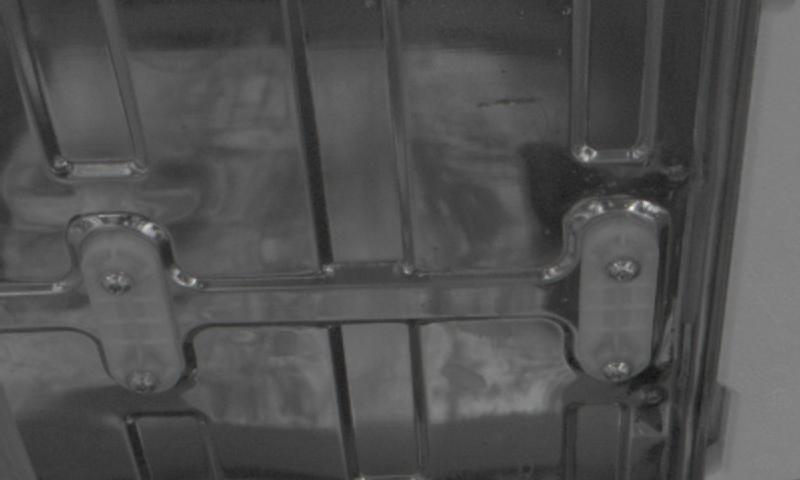vida-ok: (602, 244, 645, 289), (94, 260, 134, 305), (119, 361, 162, 401), (596, 353, 636, 391)
